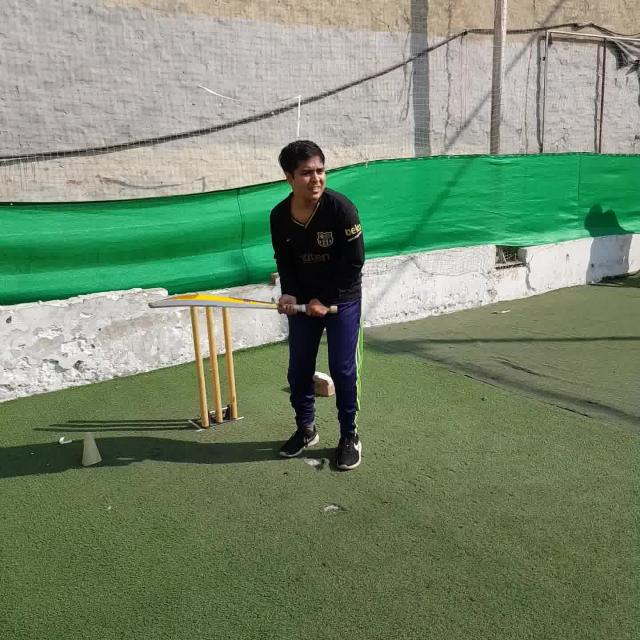bat: (148, 293, 338, 315)
